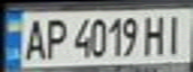0: (90, 15, 109, 58)
1: (106, 15, 124, 57)
4: (69, 15, 93, 60)
9: (121, 14, 142, 57)
A: (18, 15, 48, 61)
H: (139, 11, 169, 56)
I: (160, 11, 190, 56)
P: (39, 15, 69, 61)
